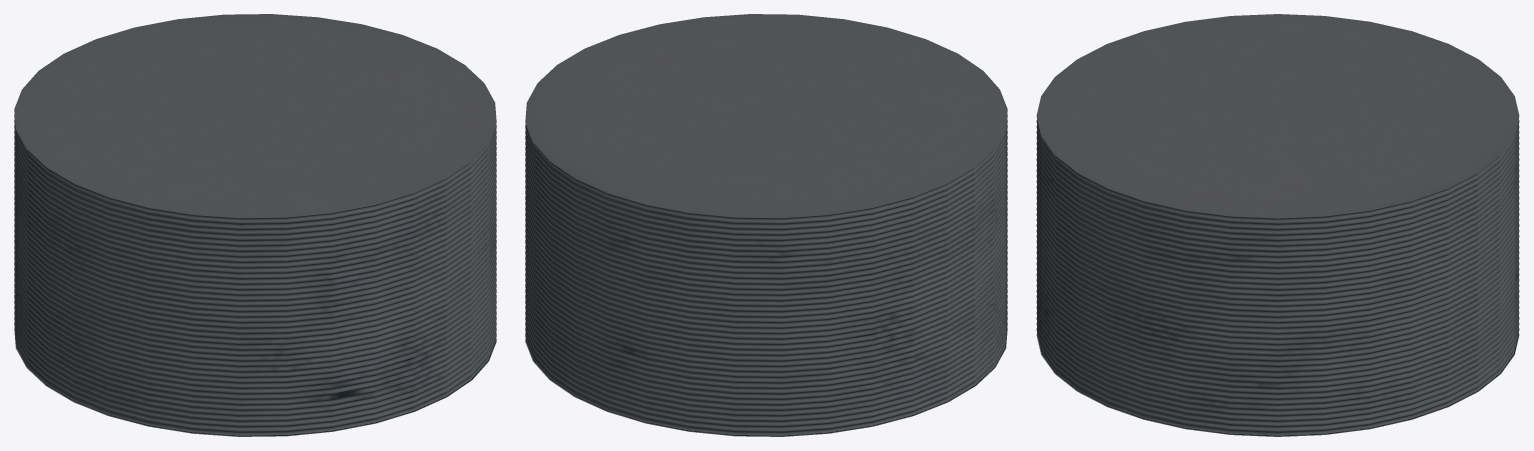
The model's file is machine-silo-unit-tripo-original.glb.
The picture shows the model from 3 angles, left to right: view 1: azimuth 30°, elevation 25°; view 2: azimuth 150°, elevation 25°; view 3: azimuth 270°, elevation 25°; orthographic projection.
Visible parts, largest first — view 1: Authored_surface; view 2: Authored_surface; view 3: Authored_surface.
Part boxes in pixels (x1,y1,x2,y2): Authored_surface: [14, 14, 496, 436]; Authored_surface: [525, 14, 1007, 436]; Authored_surface: [1036, 14, 1519, 436].
Bounding box in the file's own units: 1 × 0.5 × 1.
Materials: 1 (1 with a texture image).
